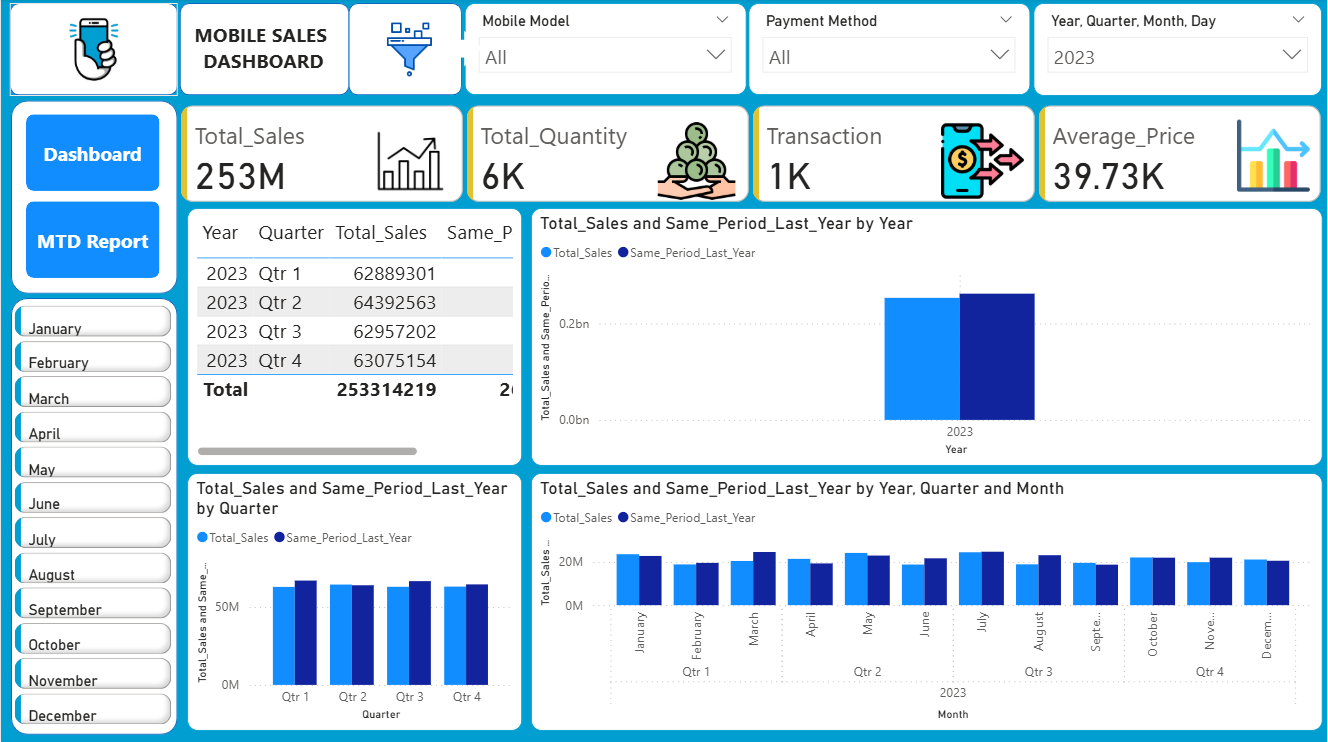

The page's visual inventory and layout, read from the dashboard file:
{"tool":"powerbi","page":{"name":"Same Period Last Year","canvas":[1280,720],"ordinal":2},"visuals":[{"type":"shape","box":[8.1,5.4,162.2,89.2],"z":0},{"type":"image","box":[8.1,5.4,162.2,89.2],"z":1000},{"type":"shape","box":[9.5,98.6,160.8,186.5],"z":2000},{"type":"cardVisual","fields":{"Data":["Sales_Data.Total_Sales","Sales_Data.Total_Quantity","Sales_Data.Transaction","Sales_Data.Average_Price"]},"box":[168.9,98.9,1111.1,103.8],"z":3000},{"type":"slicer","fields":{"Values":["Sales_Data.Mobile Model"]},"box":[447.3,5.4,271.6,89.2],"z":4000},{"type":"slicer","fields":{"Values":["Sales_Data.Payment Method"]},"box":[721.6,5.4,271.6,89.2],"z":5000},{"type":"slicer","fields":{"Values":["Custom_Calender.Date.Variation.Date Hierarchy.Year","Custom_Calender.Date.Variation.Date Hierarchy.Quarter","Custom_Calender.Date.Variation.Date Hierarchy.Month","Custom_Calender.Date.Variation.Date Hierarchy.Day"]},"box":[996.5,4.8,278.7,89.3],"z":6000},{"type":"shape","box":[335.1,5.4,109.5,89.2],"z":7000},{"type":"image","box":[335.1,17.6,117.6,63.5],"z":8000},{"type":"shape","box":[425.9,31.4,38.6,35],"z":9000},{"type":"shape","box":[173,5.4,163.5,89.2],"z":10000},{"type":"textbox","box":[179.8,18.1,147.2,62.7],"z":11000},{"type":"shape","box":[9.5,289.2,160.8,421.6],"z":12000},{"type":"advancedSlicerVisual","fields":{"Values":["Custom_Calender.Date.Variation.Date Hierarchy.Month"]},"box":[8.4,292,161.7,415],"z":13000},{"type":"tableEx","fields":{"Values":["Custom_Calender.Date.Variation.Date Hierarchy.Year","Custom_Calender.Date.Variation.Date Hierarchy.Quarter","Sales_Data.Total_Sales","Sales_Data.Same_Period_Last_Year"]},"box":[179.8,202.7,323.3,248.5],"z":14000},{"type":"clusteredColumnChart","fields":{"Y":["Sales_Data.Total_Sales","Sales_Data.Same_Period_Last_Year"],"Category":["Custom_Calender.Date.Variation.Date Hierarchy.Year","Custom_Calender.Date.Variation.Date Hierarchy.Quarter","Custom_Calender.Date.Variation.Date Hierarchy.Month","Custom_Calender.Date.Variation.Date Hierarchy.Day"]},"box":[511.5,202.7,763.7,248.5],"z":15000},{"type":"clusteredColumnChart","fields":{"Y":["Sales_Data.Total_Sales","Sales_Data.Same_Period_Last_Year"],"Category":["Custom_Calender.Date.Variation.Date Hierarchy.Year","Custom_Calender.Date.Variation.Date Hierarchy.Quarter","Custom_Calender.Date.Variation.Date Hierarchy.Month","Custom_Calender.Date.Variation.Date Hierarchy.Day"]},"box":[511.5,458.4,763.7,248.5],"z":16000},{"type":"clusteredColumnChart","fields":{"Category":["Custom_Calender.Date.Variation.Date Hierarchy.Year","Custom_Calender.Date.Variation.Date Hierarchy.Quarter"],"Y":["Sales_Data.Total_Sales","Sales_Data.Same_Period_Last_Year"]},"box":[179.8,458.4,323.3,248.5],"z":17000},{"type":"pageNavigator","box":[24.1,112.2,129.1,159.3],"z":18000}]}

Visuals, with their boxes in screenshot pixels (x1, y1, x2, y2), scaled from the page's 1280x720 canvas onto the 1328x742 screenshot:
shape: bbox=(8, 6, 177, 97)
image: bbox=(8, 6, 177, 97)
shape: bbox=(10, 102, 177, 294)
cardVisual - Sales_Data.Total_Sales x Sales_Data.Total_Quantity: bbox=(175, 102, 1327, 209)
slicer - Sales_Data.Mobile Model: bbox=(464, 6, 746, 97)
slicer - Sales_Data.Payment Method: bbox=(749, 6, 1030, 97)
slicer - Custom_Calender.Date.Variation.Date Hierarchy.Year x Custom_Calender.Date.Variation.Date Hierarchy.Quarter: bbox=(1034, 5, 1323, 97)
shape: bbox=(348, 6, 461, 97)
image: bbox=(348, 18, 470, 84)
shape: bbox=(442, 32, 482, 68)
shape: bbox=(179, 6, 349, 97)
textbox: bbox=(187, 19, 339, 83)
shape: bbox=(10, 298, 177, 733)
advancedSlicerVisual - Custom_Calender.Date.Variation.Date Hierarchy.Month: bbox=(9, 301, 176, 729)
tableEx - Custom_Calender.Date.Variation.Date Hierarchy.Year x Custom_Calender.Date.Variation.Date Hierarchy.Quarter: bbox=(187, 209, 522, 465)
clusteredColumnChart - Sales_Data.Total_Sales x Sales_Data.Same_Period_Last_Year: bbox=(531, 209, 1323, 465)
clusteredColumnChart - Sales_Data.Total_Sales x Sales_Data.Same_Period_Last_Year: bbox=(531, 472, 1323, 728)
clusteredColumnChart - Custom_Calender.Date.Variation.Date Hierarchy.Year x Custom_Calender.Date.Variation.Date Hierarchy.Quarter: bbox=(187, 472, 522, 728)
pageNavigator: bbox=(25, 116, 159, 280)
